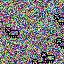sheep: (41, 52, 55, 63), (5, 27, 19, 37), (54, 14, 64, 25), (56, 37, 64, 49), (32, 59, 46, 64)
